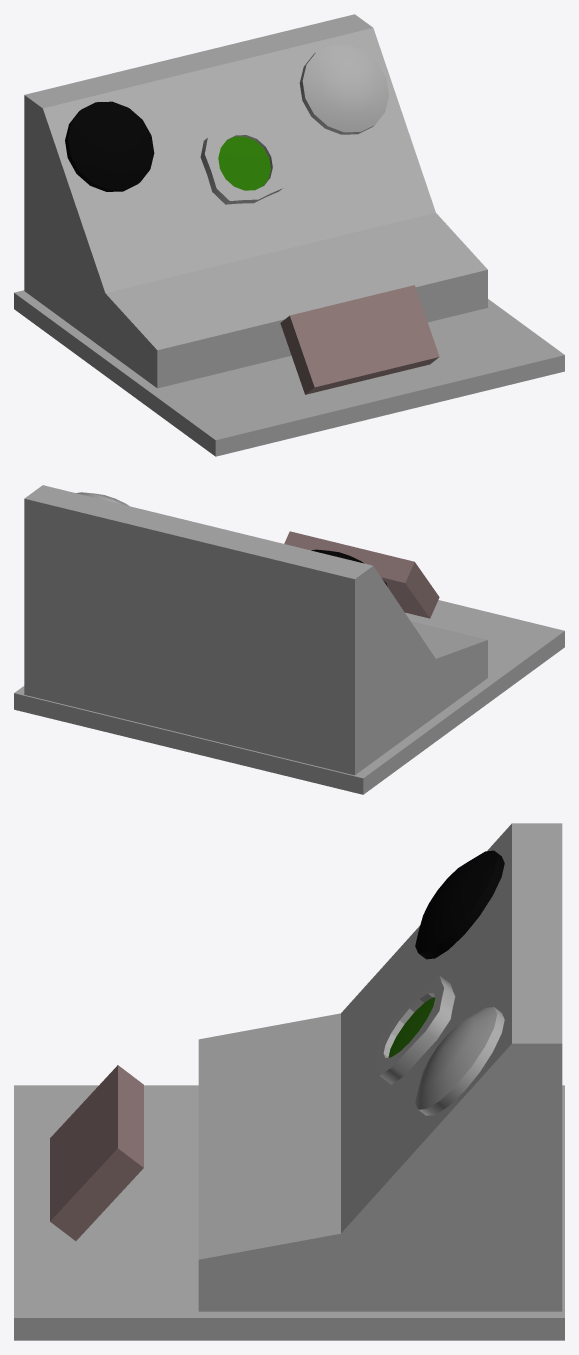
The model's file is WaveformAnalyzer.fbx.
The picture shows the model from 3 angles, top to bottom: view 1: azimuth 30°, elevation 25°; view 2: azimuth 150°, elevation 25°; view 3: azimuth 270°, elevation 25°; orthographic projection. The views are drawn at different scales.
Visible parts, largest first — view 1: Waveform_Analyzer; view 2: Waveform_Analyzer; view 3: Waveform_Analyzer.
Boxes of the visible parts, x1,y1,x2,y2 form: Waveform_Analyzer: (14,14,564,456); Waveform_Analyzer: (14,485,564,794); Waveform_Analyzer: (14,823,564,1340).
Bounding box in the file's own units: 115 × 67.11 × 115.
